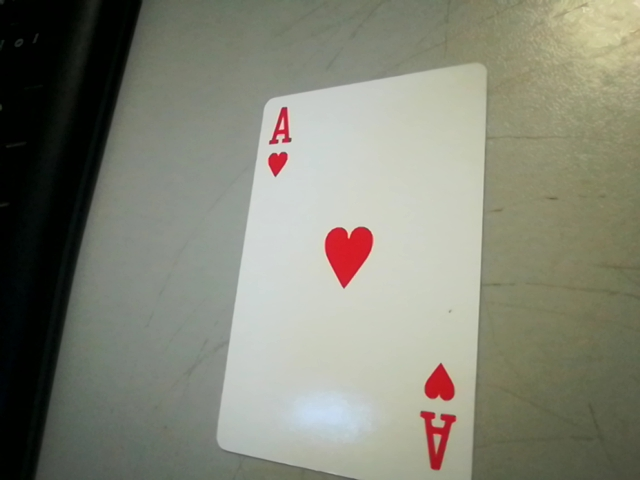hx a: (409, 359, 468, 480), (256, 99, 302, 182)
